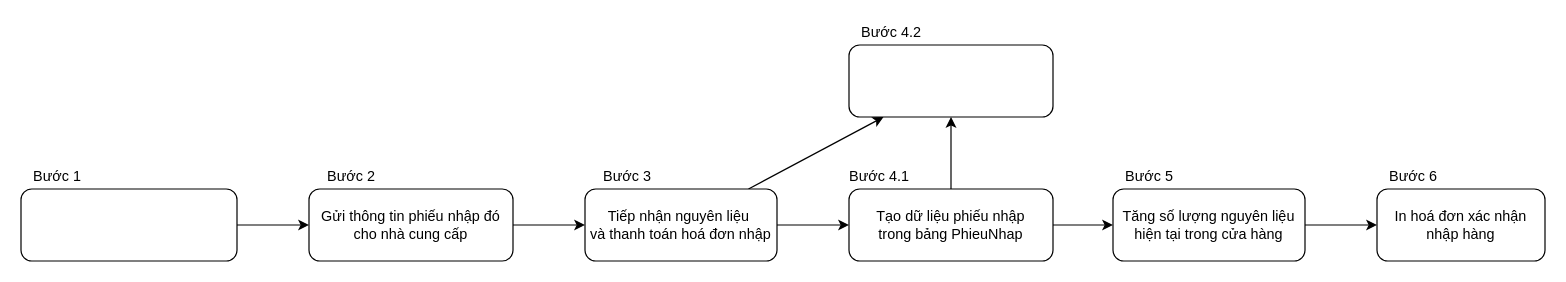
Some shapes in this 1566 by 282 pixel diagram are drawn without their labels. Here are the shapes that lost their labels. From the top down, the centre of each, then its label:
the point at 950,80: Tạo dữ liệu cho từng nguyên liệu đã chọn trong bảng CTPN
the point at 128,224: Nhân viên xác nhận và lập phiếu nhập hàng
